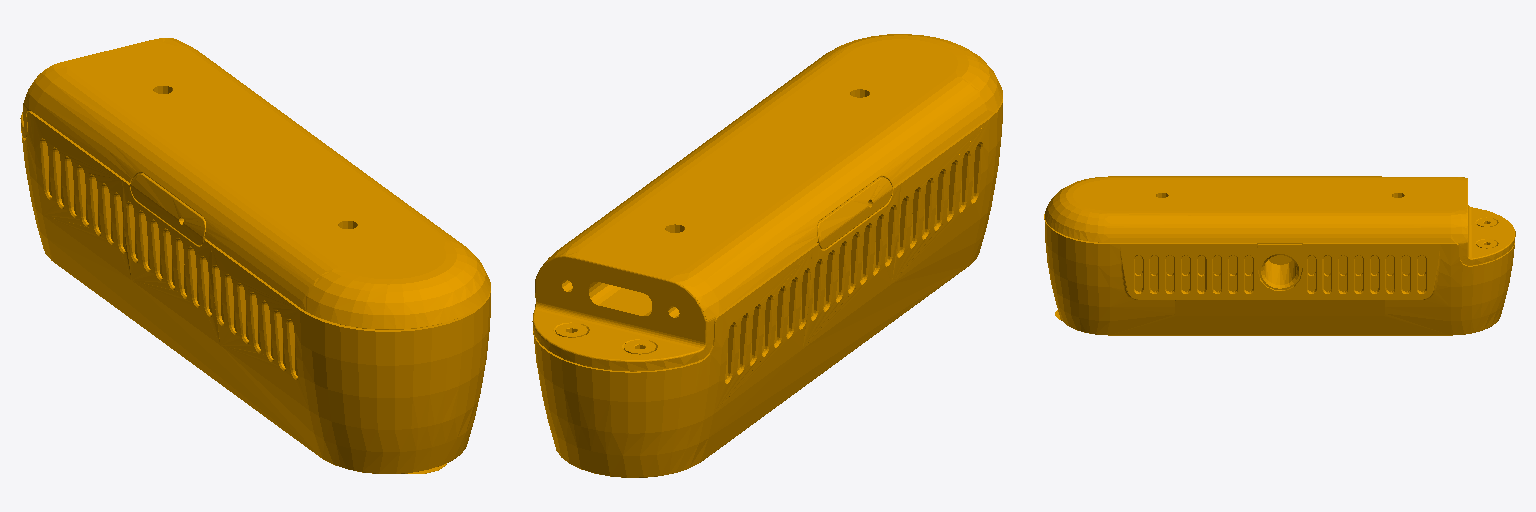
URDF robot description (camera):
<?xml version="1.0"?>

<robot name="camera">
    <link name="base_link" concave="yes">
        <visual>
            <origin xyz="0 0 0" rpy="0 0 0"/>
            <geometry>
                <mesh
                    filename="../meshes/camera.stl"
                    scale="0.01 0.01 0.01"/>
            </geometry>
        </visual>

        <collision concave="yes">
            <origin xyz="0 0 0" rpy="0 0 0"/>
            <geometry>
                <mesh
                    filename="../meshes/camera.stl"
                    scale="0.01 0.01 0.01"/>
            </geometry>
        </collision>

        <inertial>
            <origin xyz="0 0 0" rpy="0 0 0"/>
            <mass value="1.0"/>
            <inertia
                ixx="1.0"
                iyy="1.0"
                izz="1.0"
                ixy="0.0"
                ixz="0.0"
                iyz="0.0"/>
        </inertial>
    </link>
</robot>

--- What the picture shows (computed from the rendered views, not written in the file) ---
The picture shows the robot from 3 angles, left to right: view 1: azimuth 30°, elevation 25°; view 2: azimuth 150°, elevation 25°; view 3: azimuth 270°, elevation 25°; orthographic projection.
Model camera with 1 links and 0 joints (none), rooted at base_link, posed all joints at 0.
Links seen in each view (by area): view 1: base_link; view 2: base_link; view 3: base_link.
Link boxes in pixels (bbox=[...]): base_link: bbox=[20, 38, 490, 473]; base_link: bbox=[532, 34, 1002, 477]; base_link: bbox=[1044, 176, 1515, 335].
Bounding box of the posed robot: 0.25 × 0.898 × 0.2505 m (x, y, z).
Meshes: 1 distinct files referenced, 1 mesh visuals loaded (1 binary STL).
